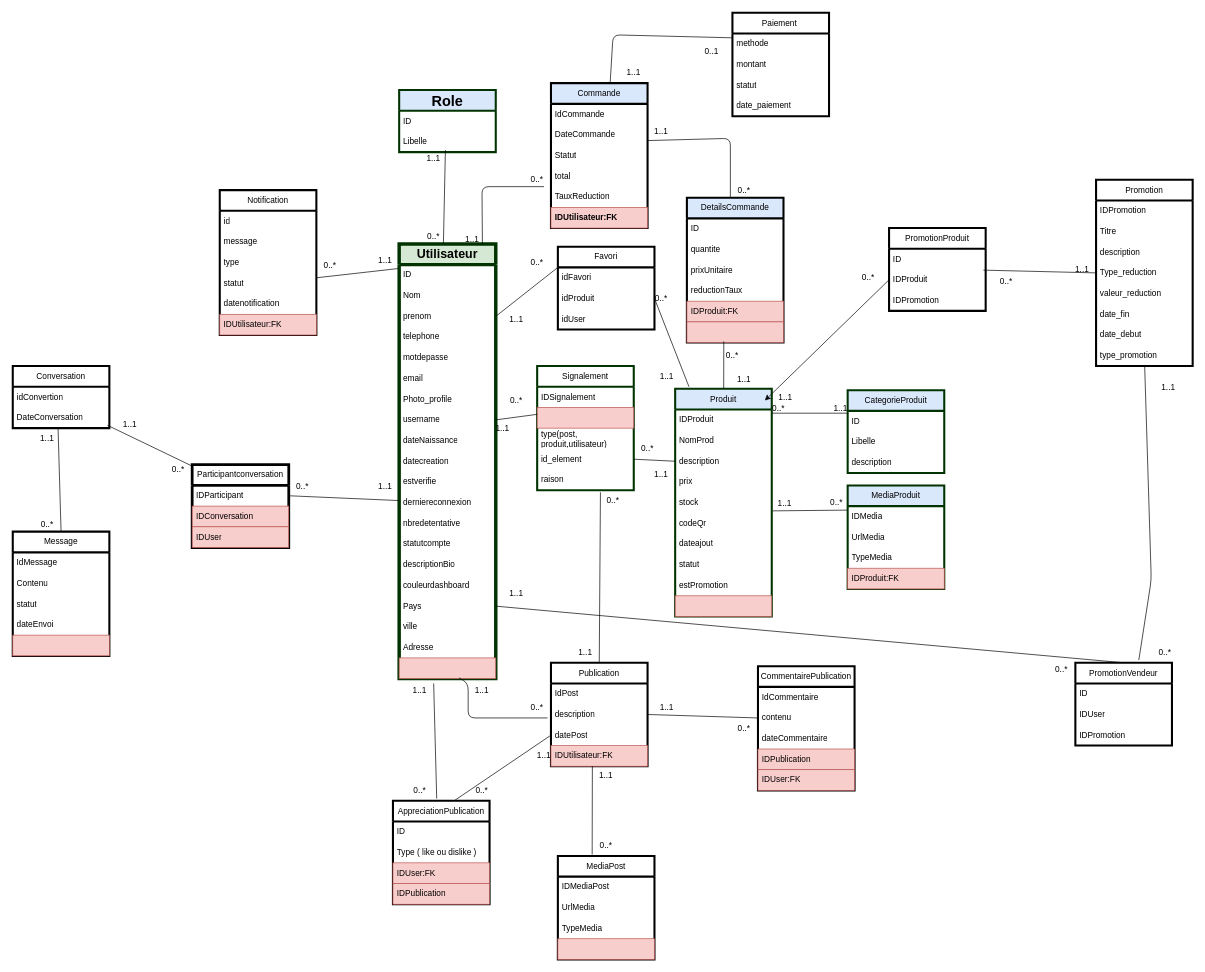
Image size: 1205x972. Some labels were removed from this diagram. The centre of each missing label's shape, as x and y in pixels:
"id_user" goes at point 585,417.
"IDCategorie:FK" goes at point 723,606.
"IDCommande:FK" goes at point 734,332.
"IDConversation:FK" goes at point 60,645.
"IDPublication:FK" goes at point 605,948.
"IDRole:FK" goes at point 447,668.
